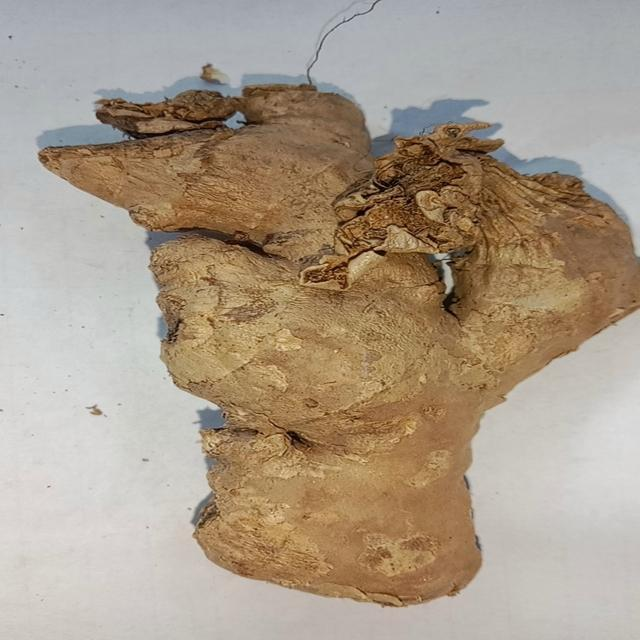ginger: (36, 74, 622, 598)
